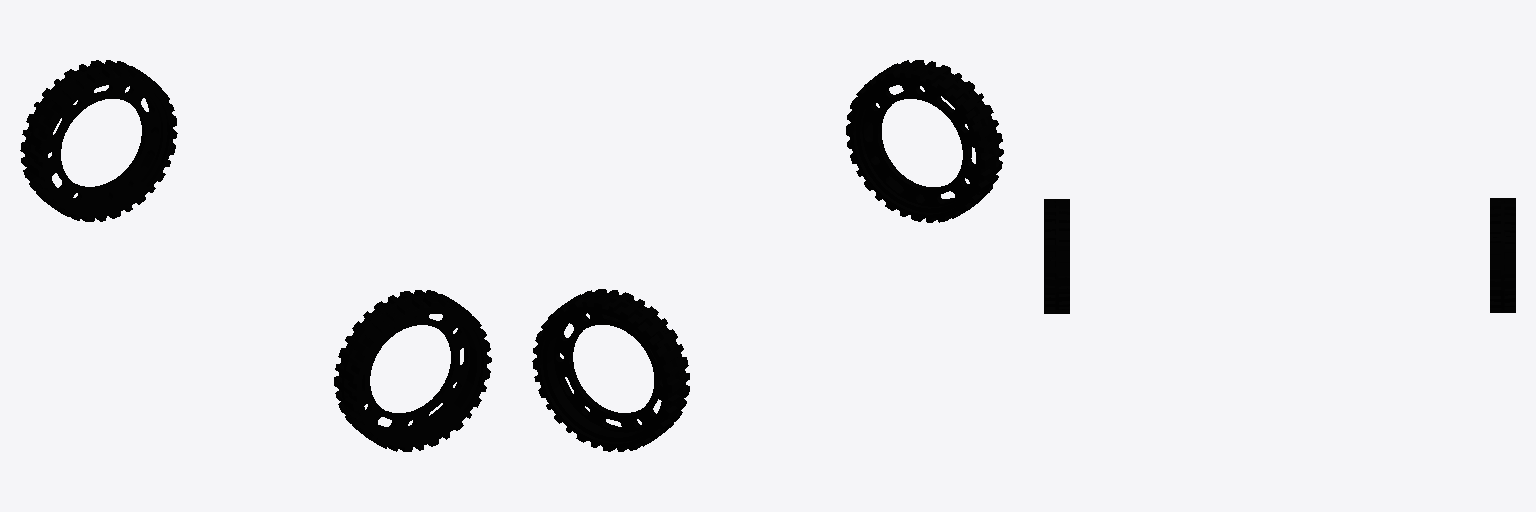
robot.urdf — spark_base_link:
<?xml version="1.0"?>
<!-- 
	spark base    
	© 2016 NXROBO INTERNATIONAL (HONG KONG) LIMITED.
    http://www.nxrobo.com
-->

<robot name="spark_base_link">

<link name="base_footprint"/>		
	<link name="base_link"/>	
		
	<joint name="base_footprint_joint" type="fixed">
		<origin xyz="0 0 0.01" rpy="0 0 0" />
		<parent link="base_footprint"/>
		<child link="base_link" />
	</joint>
	
	<link name="IMU_link"/>
  	<joint name="IMU_joint" type="fixed">
      		<origin xyz="0.104 -0.09 0.065" rpy="0 0 1.570796327" />
      		<parent link="base_link"/>
      		<child link="IMU_link"/>
  	</joint>	
		
	<link name="room_base_link">
		<inertial>
		  <origin
		    xyz="-0.0078695 -0.020998 -0.001386"
		    rpy="0 0 0" />
		  <mass
		    value="0.54755" />
		  <inertia
		    ixx="0.00346146576565066"
		    ixy="-6.26423343889596E-06"
		    ixz="8.2000761035661E-05"
		    iyy="-1.84932053914363E-05"
		    iyz="-0.00410723070180017"
		    izz="1.84932053914367E-05" />
		</inertial>
		<visual>
		  <origin
		    xyz="0 0 0"
		    rpy="0 0 0" />
		  <geometry>
		    <mesh
		      filename="package://spark_description/meshes/spark/base/spark_base.DAE" />
		  </geometry>
		  
		</visual>
		<collision>
		  <origin
		    xyz="0 0 0"
		    rpy="0 0 0" />
		  <geometry>
		    <mesh
		      filename="package://spark_description/meshes/spark/base/spark_base.DAE" />
		  </geometry>
		</collision>	
	</link>	

	<joint name="room_base_joint" type="fixed">
		<origin xyz="0 0 0" rpy="0 0 0" />
		<parent link="base_link"/>
		<child link="room_base_link" />
	</joint>
	

 	<!--wheel link and joint-->
	<link name="left_wheel_link">
		<inertial>
		  <origin
		    xyz="-0.0078695 -0.020998 -0.001386"
		    rpy="0 0 0" />
		  <mass
		    value="0.54755" />
		  <inertia
		    ixx="0.00346146576565066"
		    ixy="-6.26423343889596E-06"
		    ixz="8.2000761035661E-05"
		    iyy="-1.84932053914363E-05"
		    iyz="-0.00410723070180017"
		    izz="1.84932053914367E-05" />
		</inertial>
		<visual>
		  <origin
		    xyz="0 0 0"
		    rpy="0 0 0" />
		  <geometry>
		    <mesh
		      filename="package://spark_description/meshes/spark/base/left_wheel.DAE" />
		  </geometry>
		  
		</visual>
		<collision>
		  <origin
		    xyz="0 0 0"
		    rpy="0 0 0" />
		  <geometry>
		    <mesh
		      filename="package://spark_description/meshes/spark/base/left_wheel.DAE" />
		  </geometry>
		</collision>	
	</link>  
	
	<joint name="left_wheel_joint" type="continuous">
		<origin xyz="0 0.131 0.024" rpy="0 0 0" />
		<axis xyz="0 1 0"/>
		<parent link="base_link"/>
		<child link="left_wheel_link" />
	</joint> 	
	
	
	
	<link name="right_wheel_link">
		<inertial>
		  <origin
		    xyz="-0.0078695 -0.020998 -0.001386"
		    rpy="0 0 0" />
		  <mass
		    value="0.54755" />
		  <inertia
		    ixx="0.00346146576565066"
		    ixy="-6.26423343889596E-06"
		    ixz="8.2000761035661E-05"
		    iyy="-1.84932053914363E-05"
		    iyz="-0.00410723070180017"
		    izz="1.84932053914367E-05" />
		</inertial>
		<visual>
		  <origin
		    xyz="0 0 0"
		    rpy="0 0 0" />
		  <geometry>
		    <mesh
		      filename="package://spark_description/meshes/spark/base/right_wheel.DAE" />
		  </geometry>
		  
		</visual>
		<collision>
		  <origin
		    xyz="0 0 0"
		    rpy="0 0 0" />
		  <geometry>
		    <mesh
		      filename="package://spark_description/meshes/spark/base/right_wheel.DAE" />
		  </geometry>
		</collision>	
	</link>   
	
	<joint name="right_wheel_joint" type="continuous">
		<origin xyz="0 -0.131 0.024" rpy="0 0 0" />
		<axis xyz="0 1 0"/>
		<parent link="base_link"/>
		<child link="right_wheel_link" />
	</joint> 


    <!--cliff link and joint-->	
	<link name="cliff_left_link"/>		
	<joint name="cliff_left_joint" type="fixed">
		<origin xyz="0.0544 0.1402 0.01" rpy="0 0 0" />
		<parent link="base_link"/>
		<child link="cliff_left_link" />
	</joint>				
	
	<link name="cliff_right_link"/>		
	<joint name="cliff_right_joint" type="fixed">
		<origin xyz="0.0544 -0.1402 0.01" rpy="0 0 0" />
		<parent link="base_link"/>
		<child link="cliff_right_link" />
	</joint>

	<link name="cliff_front_left_link"/>		
	<joint name="cliff_front_left_joint" type="fixed">
		<origin xyz="0.1457 0.039 0.01" rpy="0 0 0.2617994" />
		<parent link="base_link"/>
		<child link="cliff_front_left_link" />
	</joint>		

	<link name="cliff_front_right_link"/>		
	<joint name="cliff_front_right_joint" type="fixed">
		<origin xyz="0.1457 -0.039 0.01" rpy="0 0 -0.2617994" />
		<parent link="base_link"/>
		<child link="cliff_front_right_link" />
	</joint>

	<link name="cliff_back_left_link"/>		
	<joint name="cliff_back_left_joint" type="fixed">
		<origin xyz="-0.1479 0.0355 0.01" rpy="0 0 2.8797933" />
		<parent link="base_link"/>
		<child link="cliff_back_left_link" />
	</joint>		

	<link name="cliff_back_right_link"/>		
	<joint name="cliff_back_right_joint" type="fixed">
		<origin xyz="-0.1479 -0.0355 0.01" rpy="0 0 -2.8797933" />
		<parent link="base_link"/>
		<child link="cliff_back_right_link" />
	</joint>				

	<!--bumper link and joint-->		
	<link name="ir_bumper_front_link"/>		
	<joint name="ir_bumper_front_joint" type="fixed">
		<origin xyz="0.1629 0 0.01775" rpy="0 0 0" />
		<parent link="base_link"/>
		<child link="ir_bumper_front_link" />
	</joint>	
	<link name="ir_bumper_front_left_link"/>		
	<joint name="ir_bumper_front_left_joint" type="fixed">
		<origin xyz="0.1418 0.0802 0.01775" rpy="0 0 0.5148721" />
		<parent link="base_link"/>
		<child link="ir_bumper_front_left_link" />
	</joint>	
	<link name="ir_bumper_front_right_link"/>		
	<joint name="ir_bumper_front_right_joint" type="fixed">
		<origin xyz="0.1418 -0.0802 0.01775" rpy="0 0 -0.5148721" />
		<parent link="base_link"/>
		<child link="ir_bumper_front_right_link" />
	</joint>

	<link name="ir_bumper_left_link"/>		
	<joint name="ir_bumper_left_joint" type="fixed">
		<origin xyz="0.0887 0.1367 0.01775" rpy="0 0 0.9948377" />
		<parent link="base_link"/>
		<child link="ir_bumper_left_link" />
	</joint>	
	<link name="ir_bumper_right_link"/>		
	<joint name="ir_bumper_right_joint" type="fixed">
		<origin xyz="0.0887 -0.1367 0.01775" rpy="0 0 -0.9948377" />
		<parent link="base_link"/>
		<child link="ir_bumper_right_link" />
	</joint>		
	<link name="ir_bumper_back_left_link"/>		
	<joint name="ir_bumper_back_left_joint" type="fixed">
		<origin xyz="-0.123 0.1069 0.01775" rpy="0 0 2.4260077" />
		<parent link="base_link"/>
		<child link="ir_bumper_back_left_link" />
	</joint>	
	<link name="ir_bumper_back_right_link"/>		
	<joint name="ir_bumper_back_right_joint" type="fixed">
		<origin xyz="-0.123 -0.1069 0.01775" rpy="0 0 -2.4260077" />
		<parent link="base_link"/>
		<child link="ir_bumper_back_right_link" />
	</joint>

        <link name="ir_bumper_rear_link"/>		
	<joint name="ir_bumper_rear_joint" type="fixed">
		<origin xyz="-0.1629 0 0.01775" rpy="0 0 0" />
		<parent link="base_link"/>
		<child link="ir_bumper_rear_link" />
	</joint>			
		
	<!--base gyro link and joint-->		
	<link name="base_gyro_link"/>		
	<joint name="base_gyro_joint" type="fixed">
		<origin xyz="0.0761 0.0307 0.057" rpy="0 0 0" />
		<parent link="base_link"/>
		<child link="base_gyro_link" />
	</joint>			

</robot>

--- Render facts (derived) ---
Views: 3 orthographic renders of the robot side by side, from view 1: azimuth 30°, elevation 25°; view 2: azimuth 150°, elevation 25°; view 3: azimuth 270°, elevation 25°.
Model spark_base_link with 21 links and 20 joints (2 continuous, 18 fixed), rooted at base_footprint, posed every joint at zero.
Visible links, largest first — view 1: right_wheel_link, left_wheel_link; view 2: left_wheel_link, right_wheel_link; view 3: left_wheel_link, right_wheel_link.
Boxes of the visible links, left/top/right/bottom form: right_wheel_link: left=334, top=290, right=491, bottom=451; left_wheel_link: left=20, top=60, right=177, bottom=221; left_wheel_link: left=532, top=289, right=689, bottom=451; right_wheel_link: left=846, top=60, right=1003, bottom=222; left_wheel_link: left=1490, top=198, right=1515, bottom=312; right_wheel_link: left=1044, top=199, right=1069, bottom=313.
Size in the robot's own frame: 0.0684 by 0.277 by 0.0684 metres.
2 mesh visuals loaded from 3 distinct referenced files (2 Collada DAE); not drawn: 1 (reference not matched to a file when rendering).
